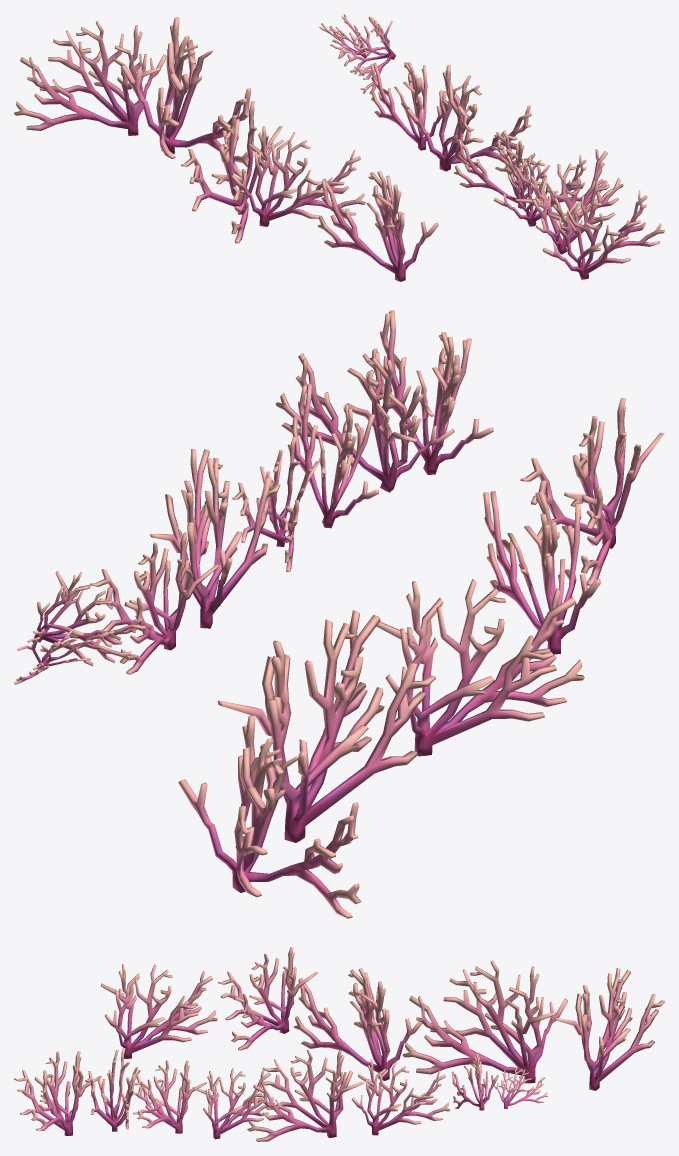
File: stageObject_13.fbx
The picture shows the model from 3 angles, top to bottom: view 1: azimuth 30°, elevation 25°; view 2: azimuth 150°, elevation 25°; view 3: azimuth 270°, elevation 25°; orthographic projection. The views are drawn at different scales.
Visible parts, largest first — view 1: sango7_2; view 2: sango7_2; view 3: sango7_2.
Boxes of the visible parts, box(x1,y1,x2,y2) form: sango7_2: box(14, 14, 664, 281); sango7_2: box(14, 310, 664, 918); sango7_2: box(14, 947, 664, 1141).
Size of the model in its own units: 315 by 126 by 587.
Materials: 1 (1 with a texture image).
